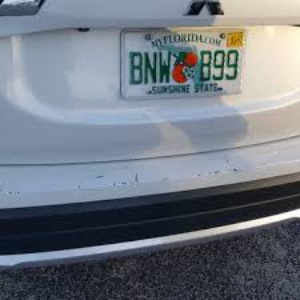bumper_scratch: (3, 138, 300, 197)
